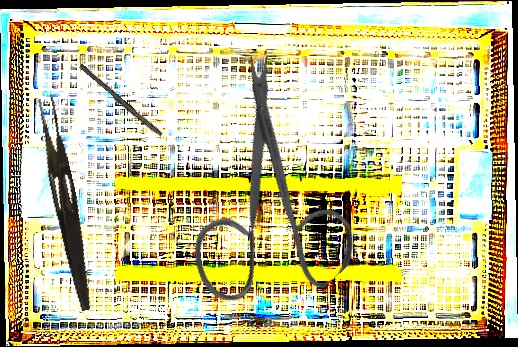Dressing Forceps: (30, 96, 102, 312)
Iris Scissors: (111, 46, 412, 347)
Scalpel Handle: (76, 63, 165, 139)
